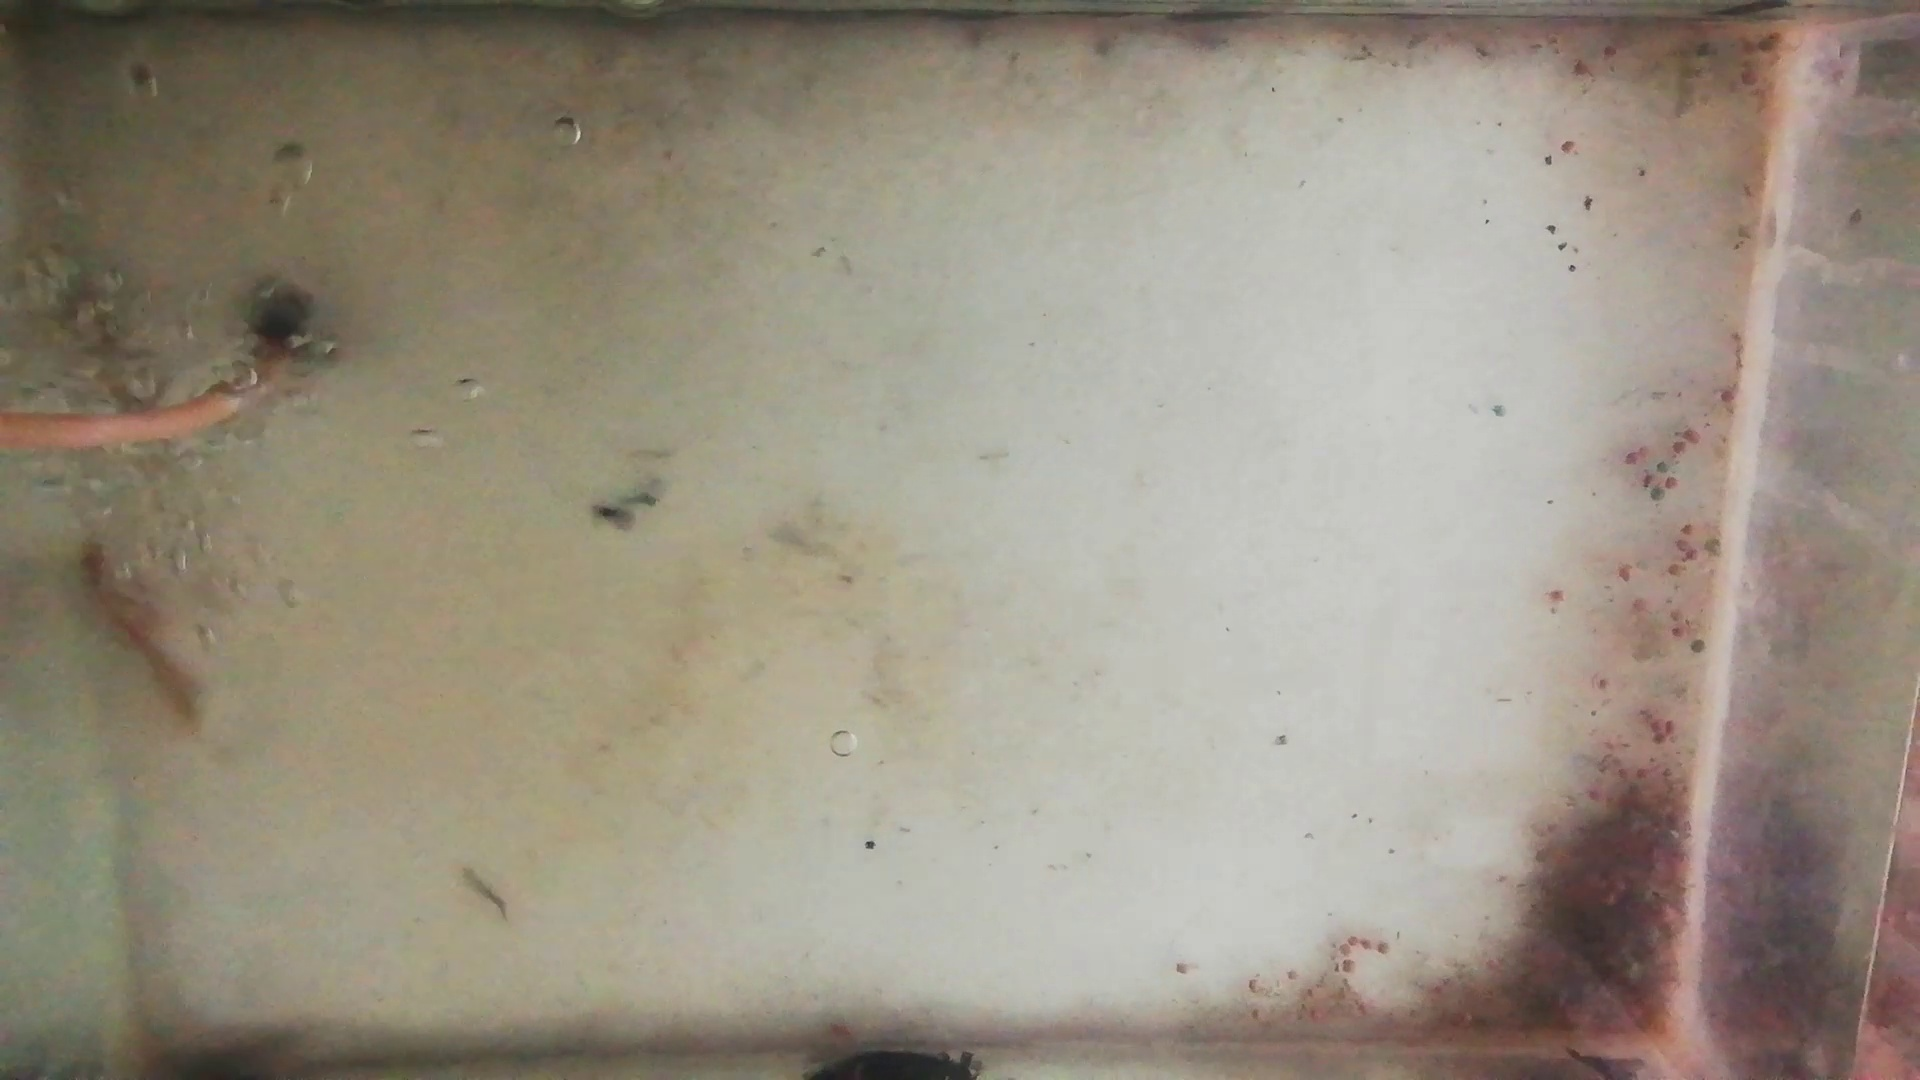fish: (84, 524, 207, 716), (62, 284, 157, 411)
